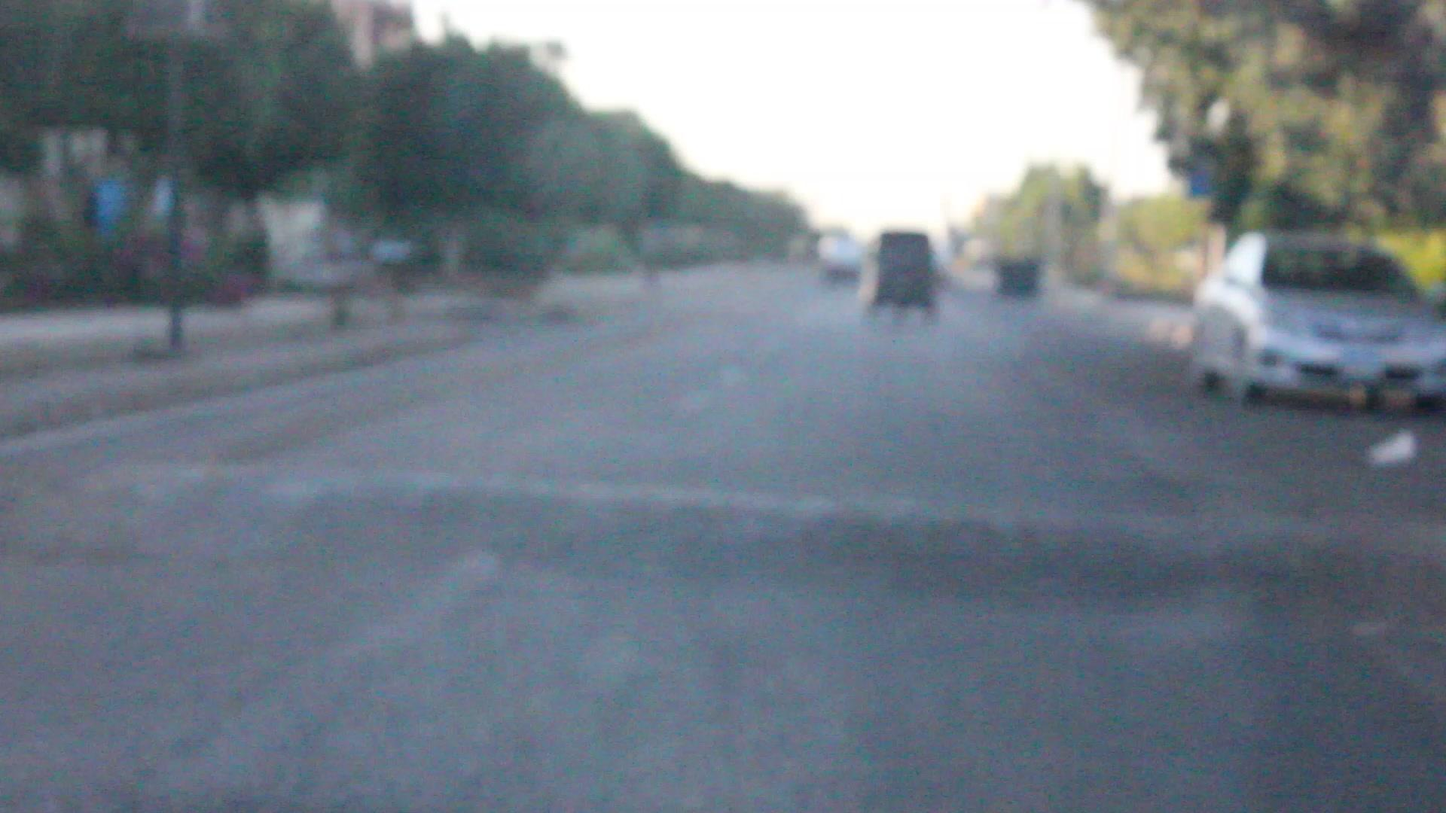Bump: (55, 459, 1445, 629)
